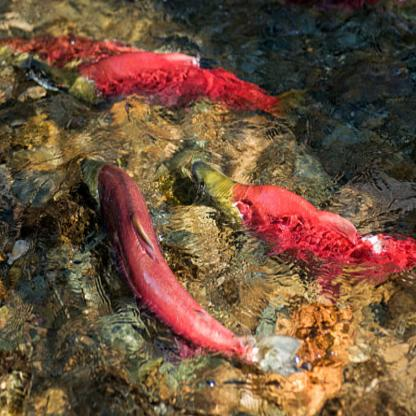sockeye: (83, 156, 274, 369), (187, 141, 416, 276), (0, 28, 278, 116)
